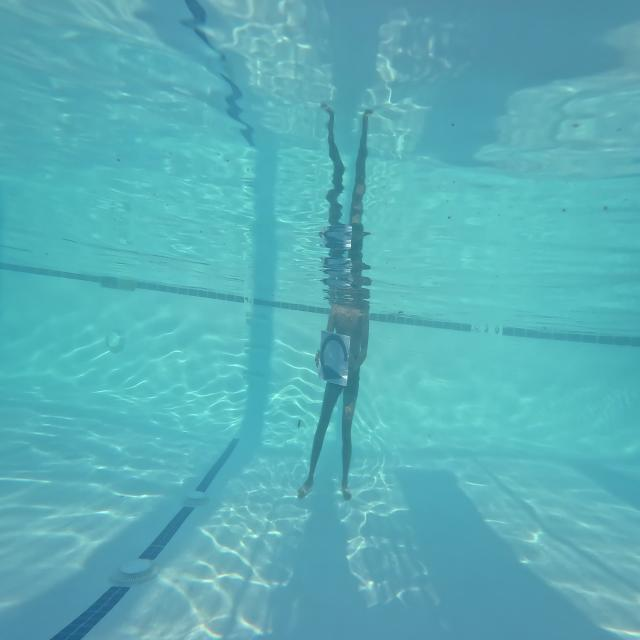blue_side: (319, 326, 351, 383)
